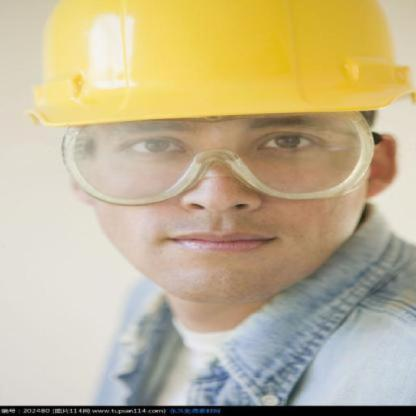glass: (41, 114, 379, 212)
yellow-helm: (24, 1, 415, 134)
